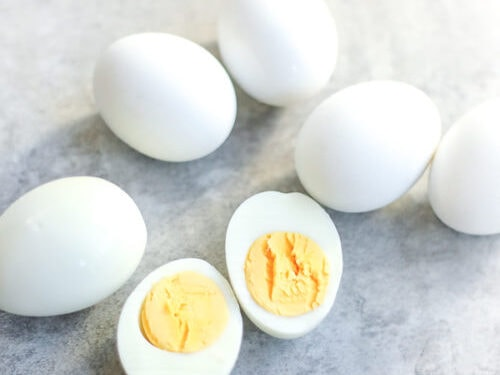egg: (212, 191, 353, 333), (1, 172, 141, 314), (93, 29, 237, 157), (297, 81, 441, 209), (110, 247, 254, 375), (205, 1, 349, 108), (427, 103, 500, 244)
